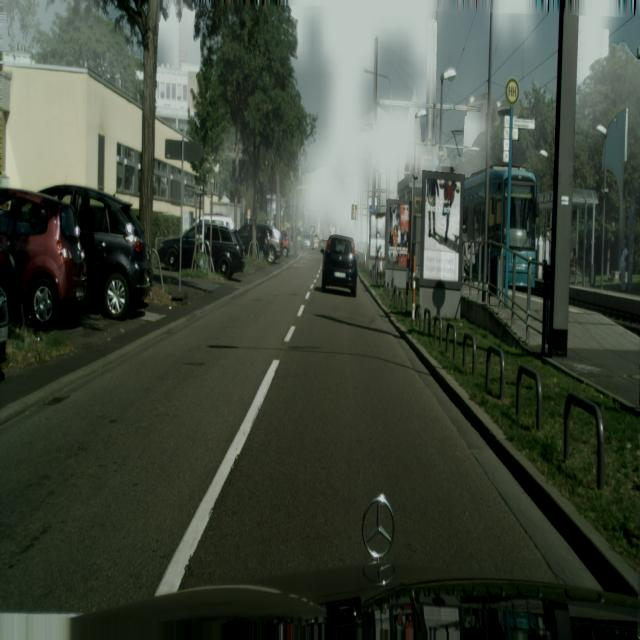motorcycle: (462, 164, 539, 291)
person: (619, 241, 628, 291)
truck: (39, 183, 153, 321), (0, 185, 89, 331), (157, 217, 246, 279), (322, 234, 358, 297), (237, 222, 283, 262), (0, 282, 9, 379)
